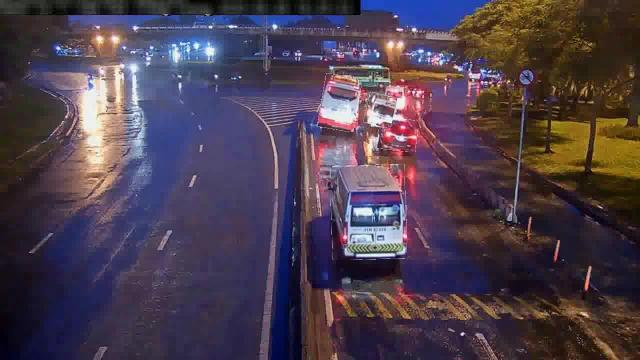Bus: (331, 165, 407, 260), (320, 74, 360, 132), (364, 93, 396, 127)
Car: (378, 117, 418, 151)
